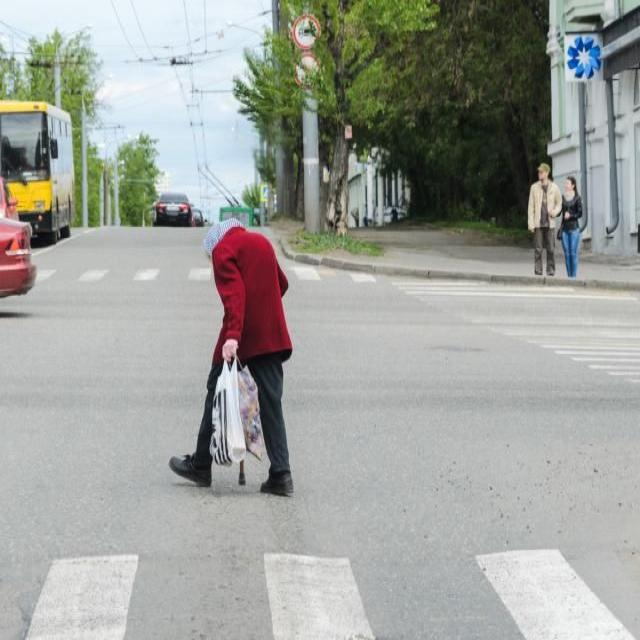idoso em pe: (176, 211, 307, 513)
